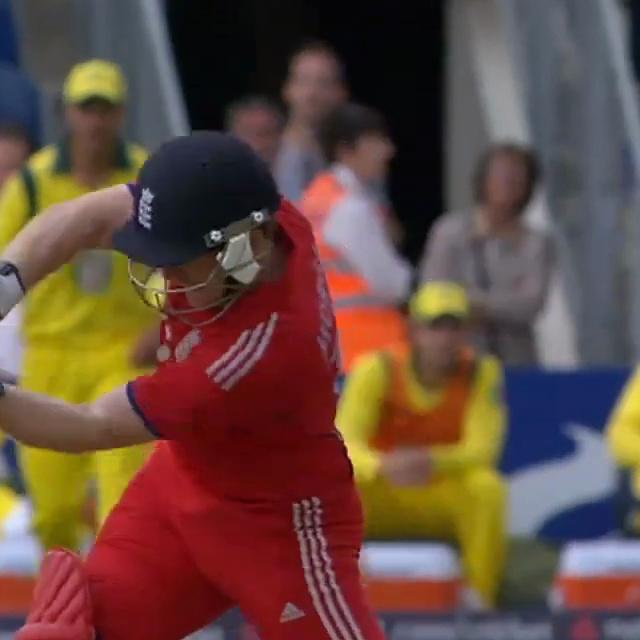person: (0, 72, 467, 640)
